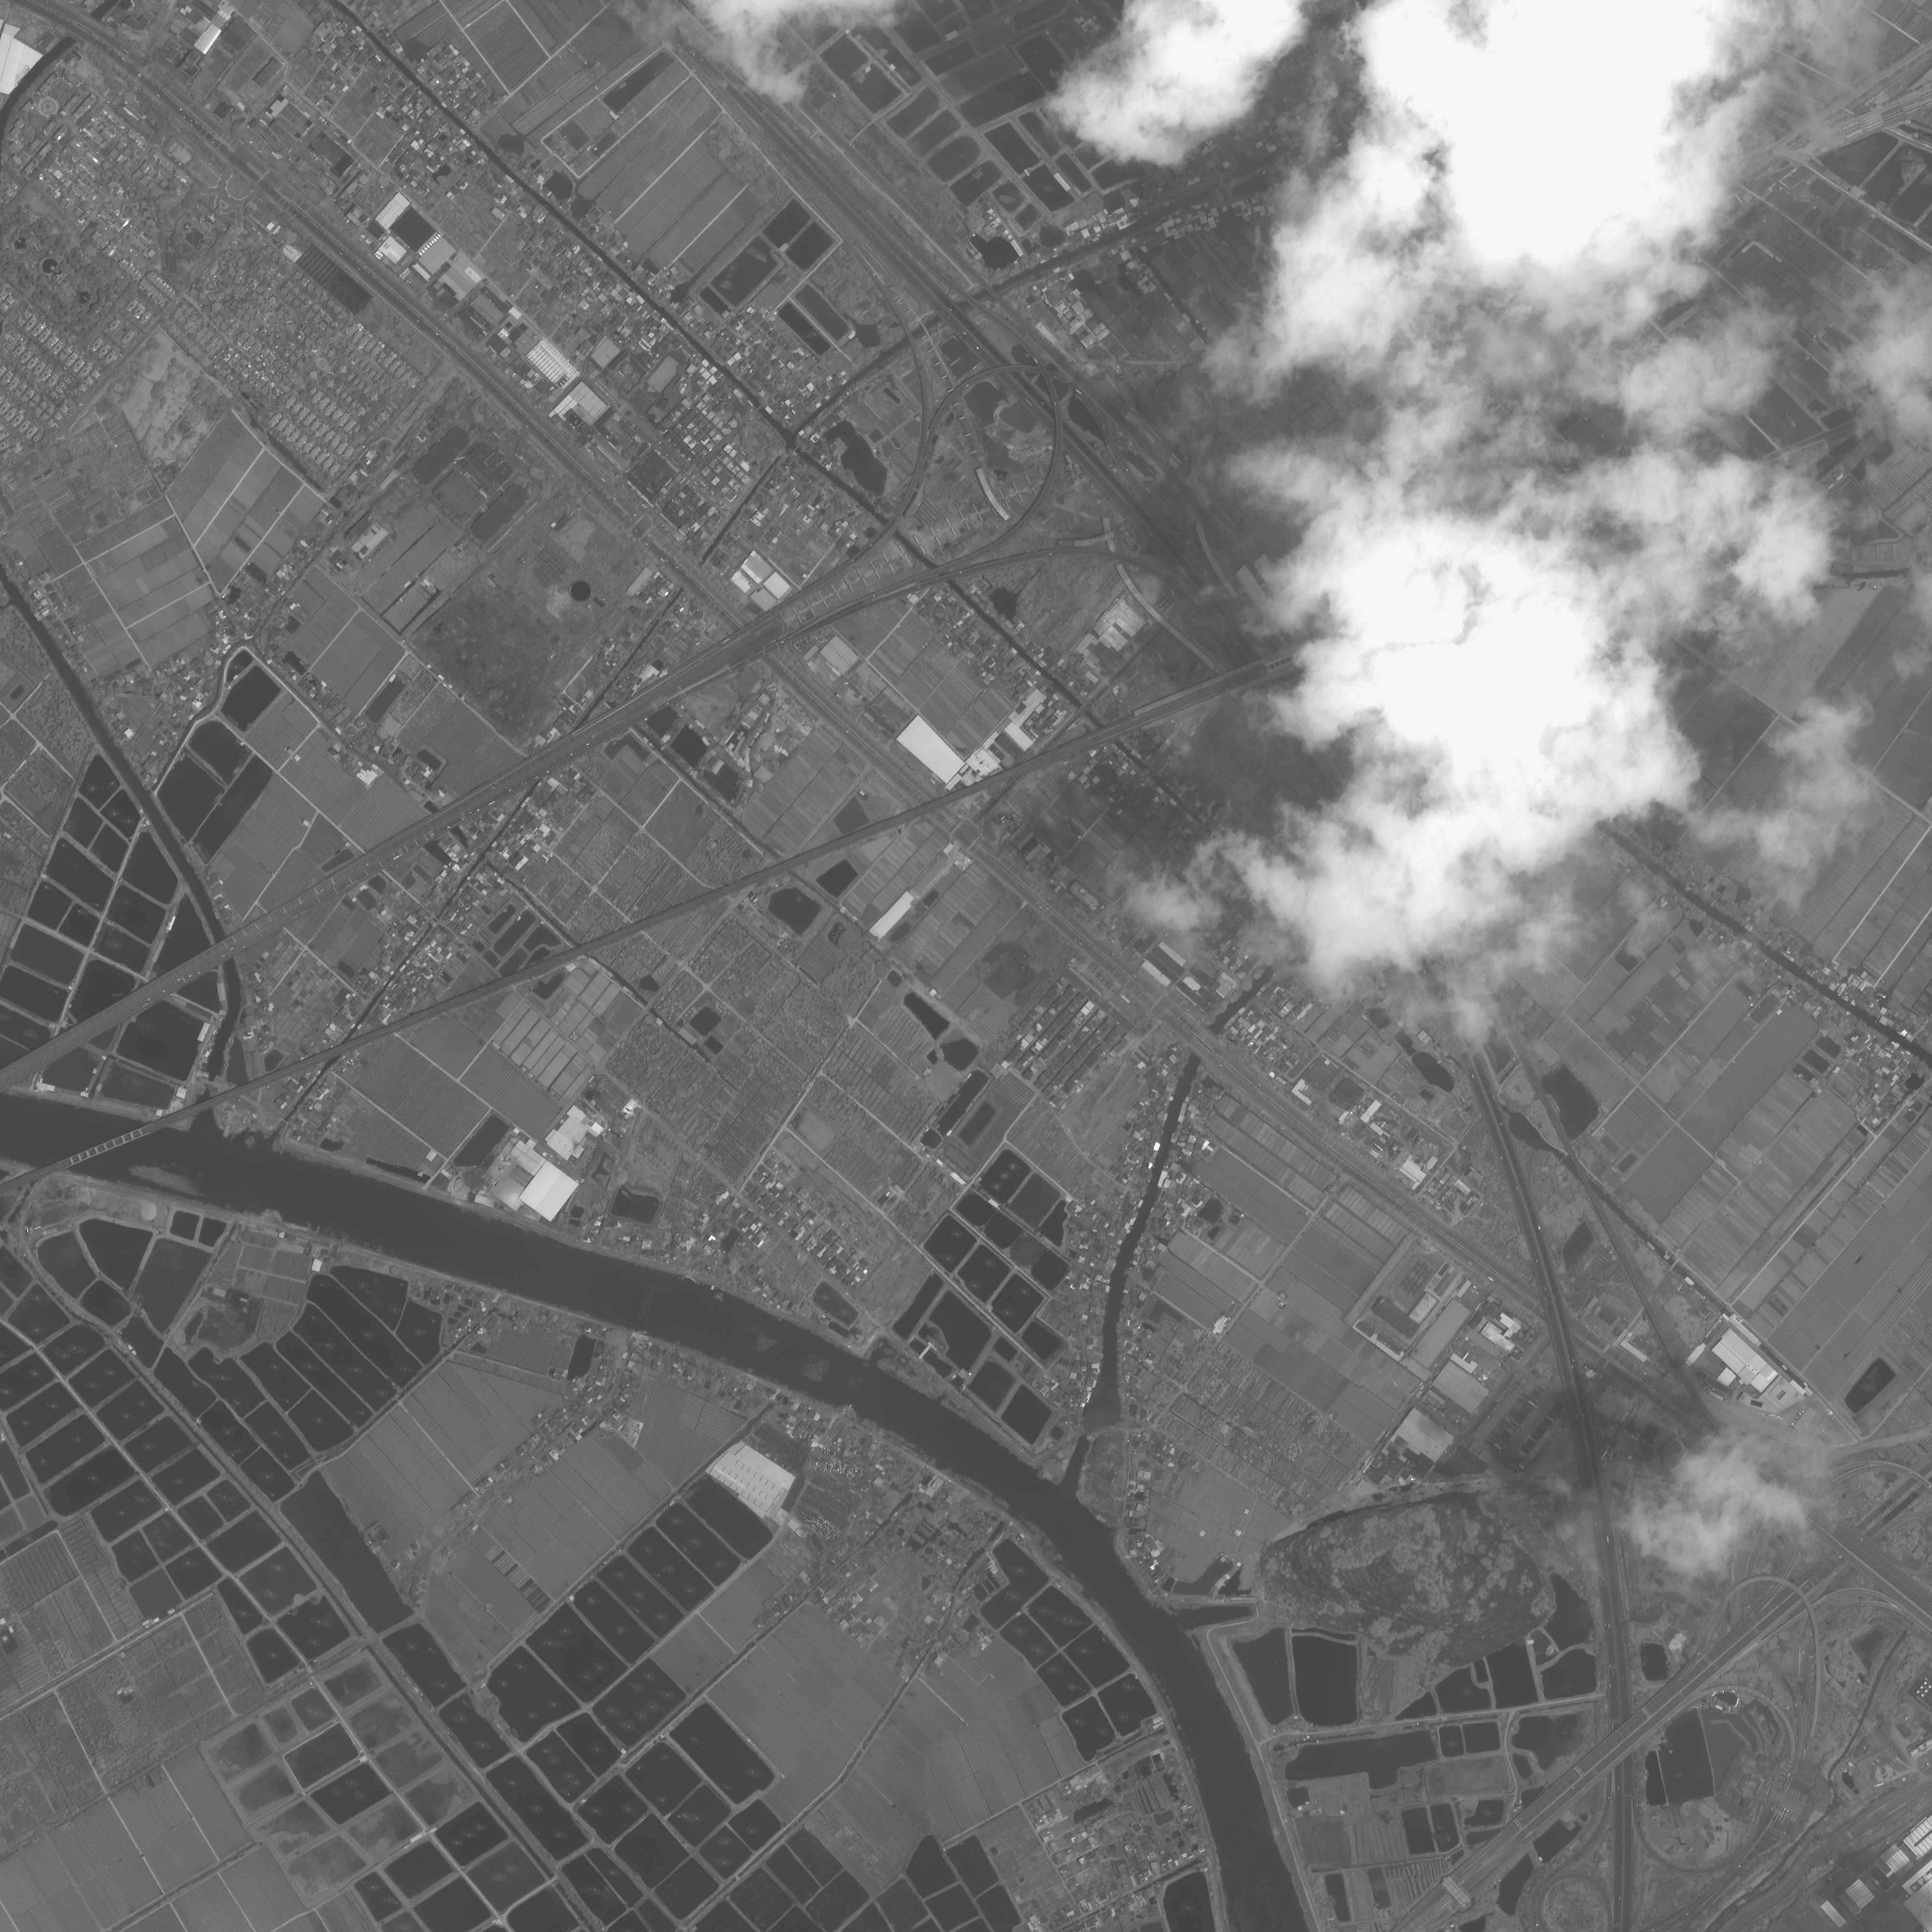bridge: (41, 1122, 163, 1169), (65, 11, 103, 44), (1192, 1026, 1217, 1062), (1571, 1157, 1594, 1194), (433, 809, 458, 832), (938, 303, 962, 322), (885, 1329, 906, 1350), (216, 938, 234, 962), (1099, 725, 1122, 743), (329, 1044, 345, 1060), (196, 1099, 212, 1115), (885, 520, 897, 534), (966, 295, 978, 306), (932, 568, 947, 575), (922, 324, 931, 334), (985, 287, 996, 295), (941, 575, 954, 582), (908, 333, 915, 343), (757, 405, 764, 412)
